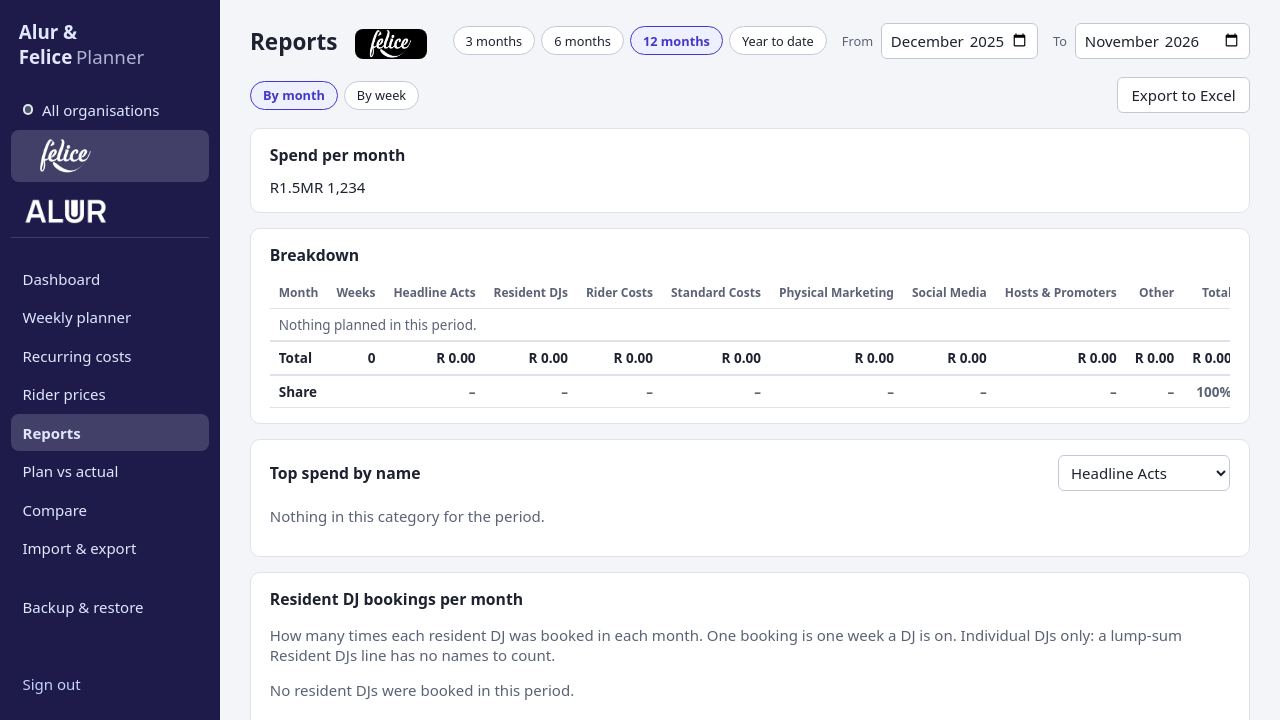
Test: the sidebar › offers Backup & restore on every page, and opens it
Click the link "Backup & restore": (83, 607) [22, 597, 144, 617]
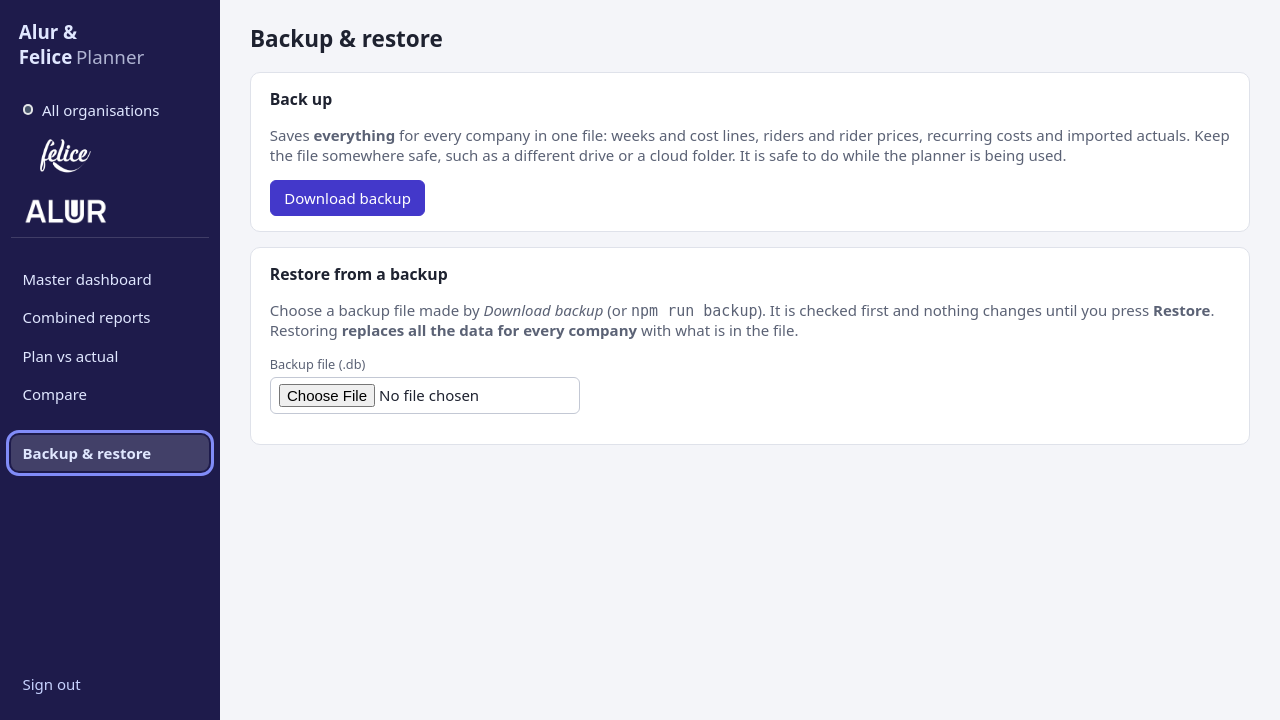
Expected: the heading "Backup & restore" is shown, [250, 22, 443, 54]
Expected: the navigation bar named "Master pages" is shown, [22, 268, 152, 404]
